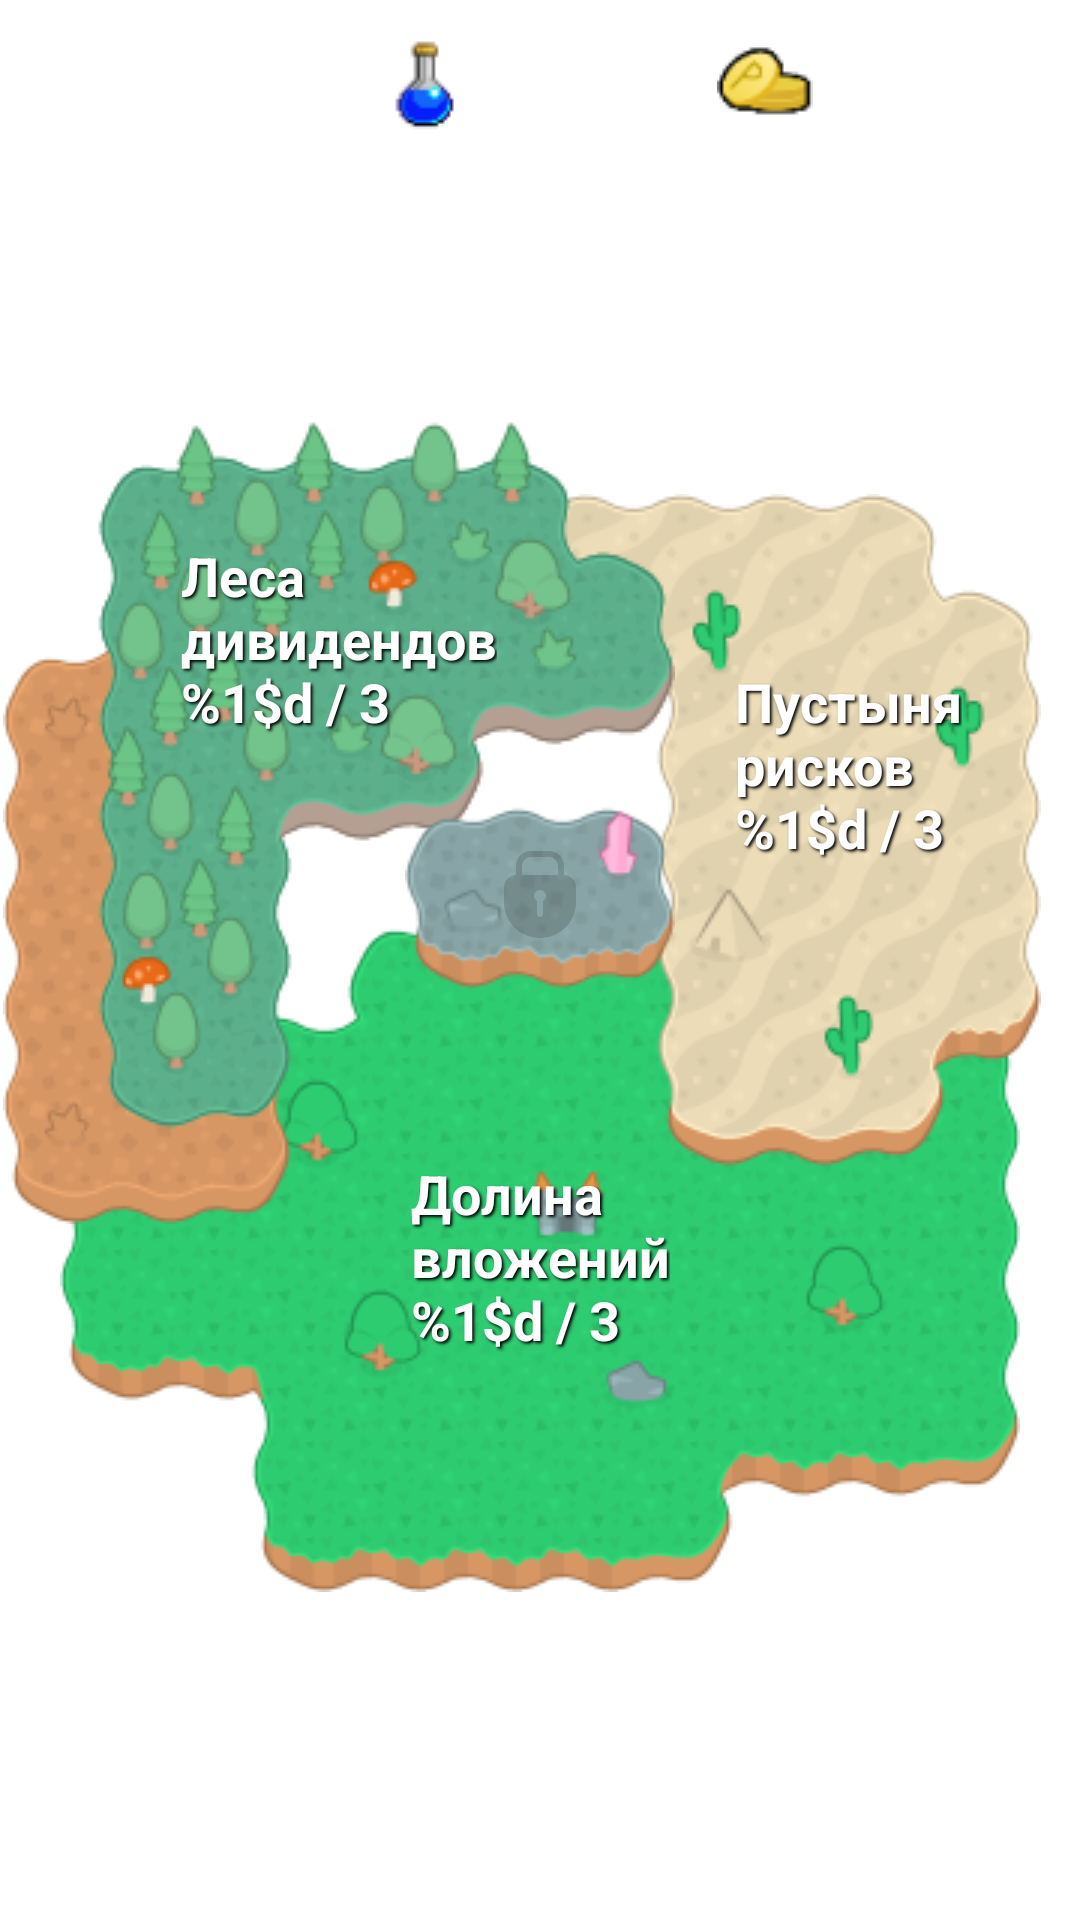

Named icons in this screenshot (1080w x 1920h) and their centers, point (x, y):
coins: point (765, 81)
potion: point (424, 84)
